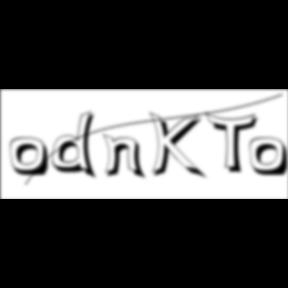K: (150, 110, 208, 182)
T: (205, 112, 263, 176)
d: (52, 110, 102, 182)
n: (102, 132, 150, 181)
o: (10, 137, 52, 179)
